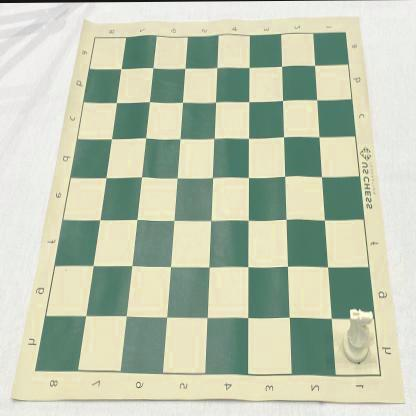white-knight: (341, 308, 374, 364)
